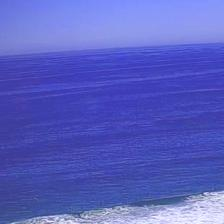surfer: (168, 189, 178, 193), (184, 190, 190, 193), (100, 202, 106, 204), (146, 192, 150, 195), (69, 207, 73, 210), (150, 193, 153, 196), (34, 196, 37, 199), (214, 187, 216, 191), (140, 196, 142, 199), (214, 183, 216, 186)
